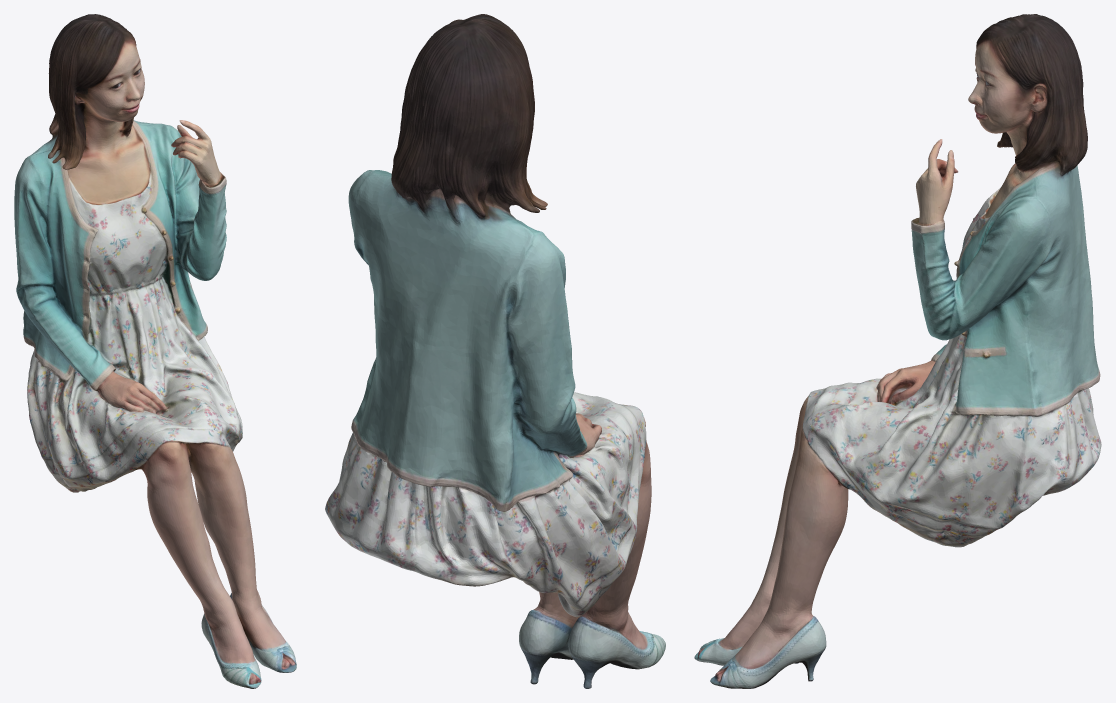
Rendered from sf-free-091-aya-obj-1628ca.glb.
The picture shows the model from 3 angles, left to right: view 1: azimuth 30°, elevation 25°; view 2: azimuth 150°, elevation 25°; view 3: azimuth 270°, elevation 25°; orthographic projection. The views are drawn at different scales.
Parts seen in each view (by area): view 1: Object_2; view 2: Object_2; view 3: Object_2.
Part boxes in pixels (<box>): Object_2: <box>14,14,296,688</box>; Object_2: <box>325,14,665,688</box>; Object_2: <box>694,14,1101,688</box>.
Size of the model in its own units: 424 by 1319 by 767.
1 material, 1 textured.
